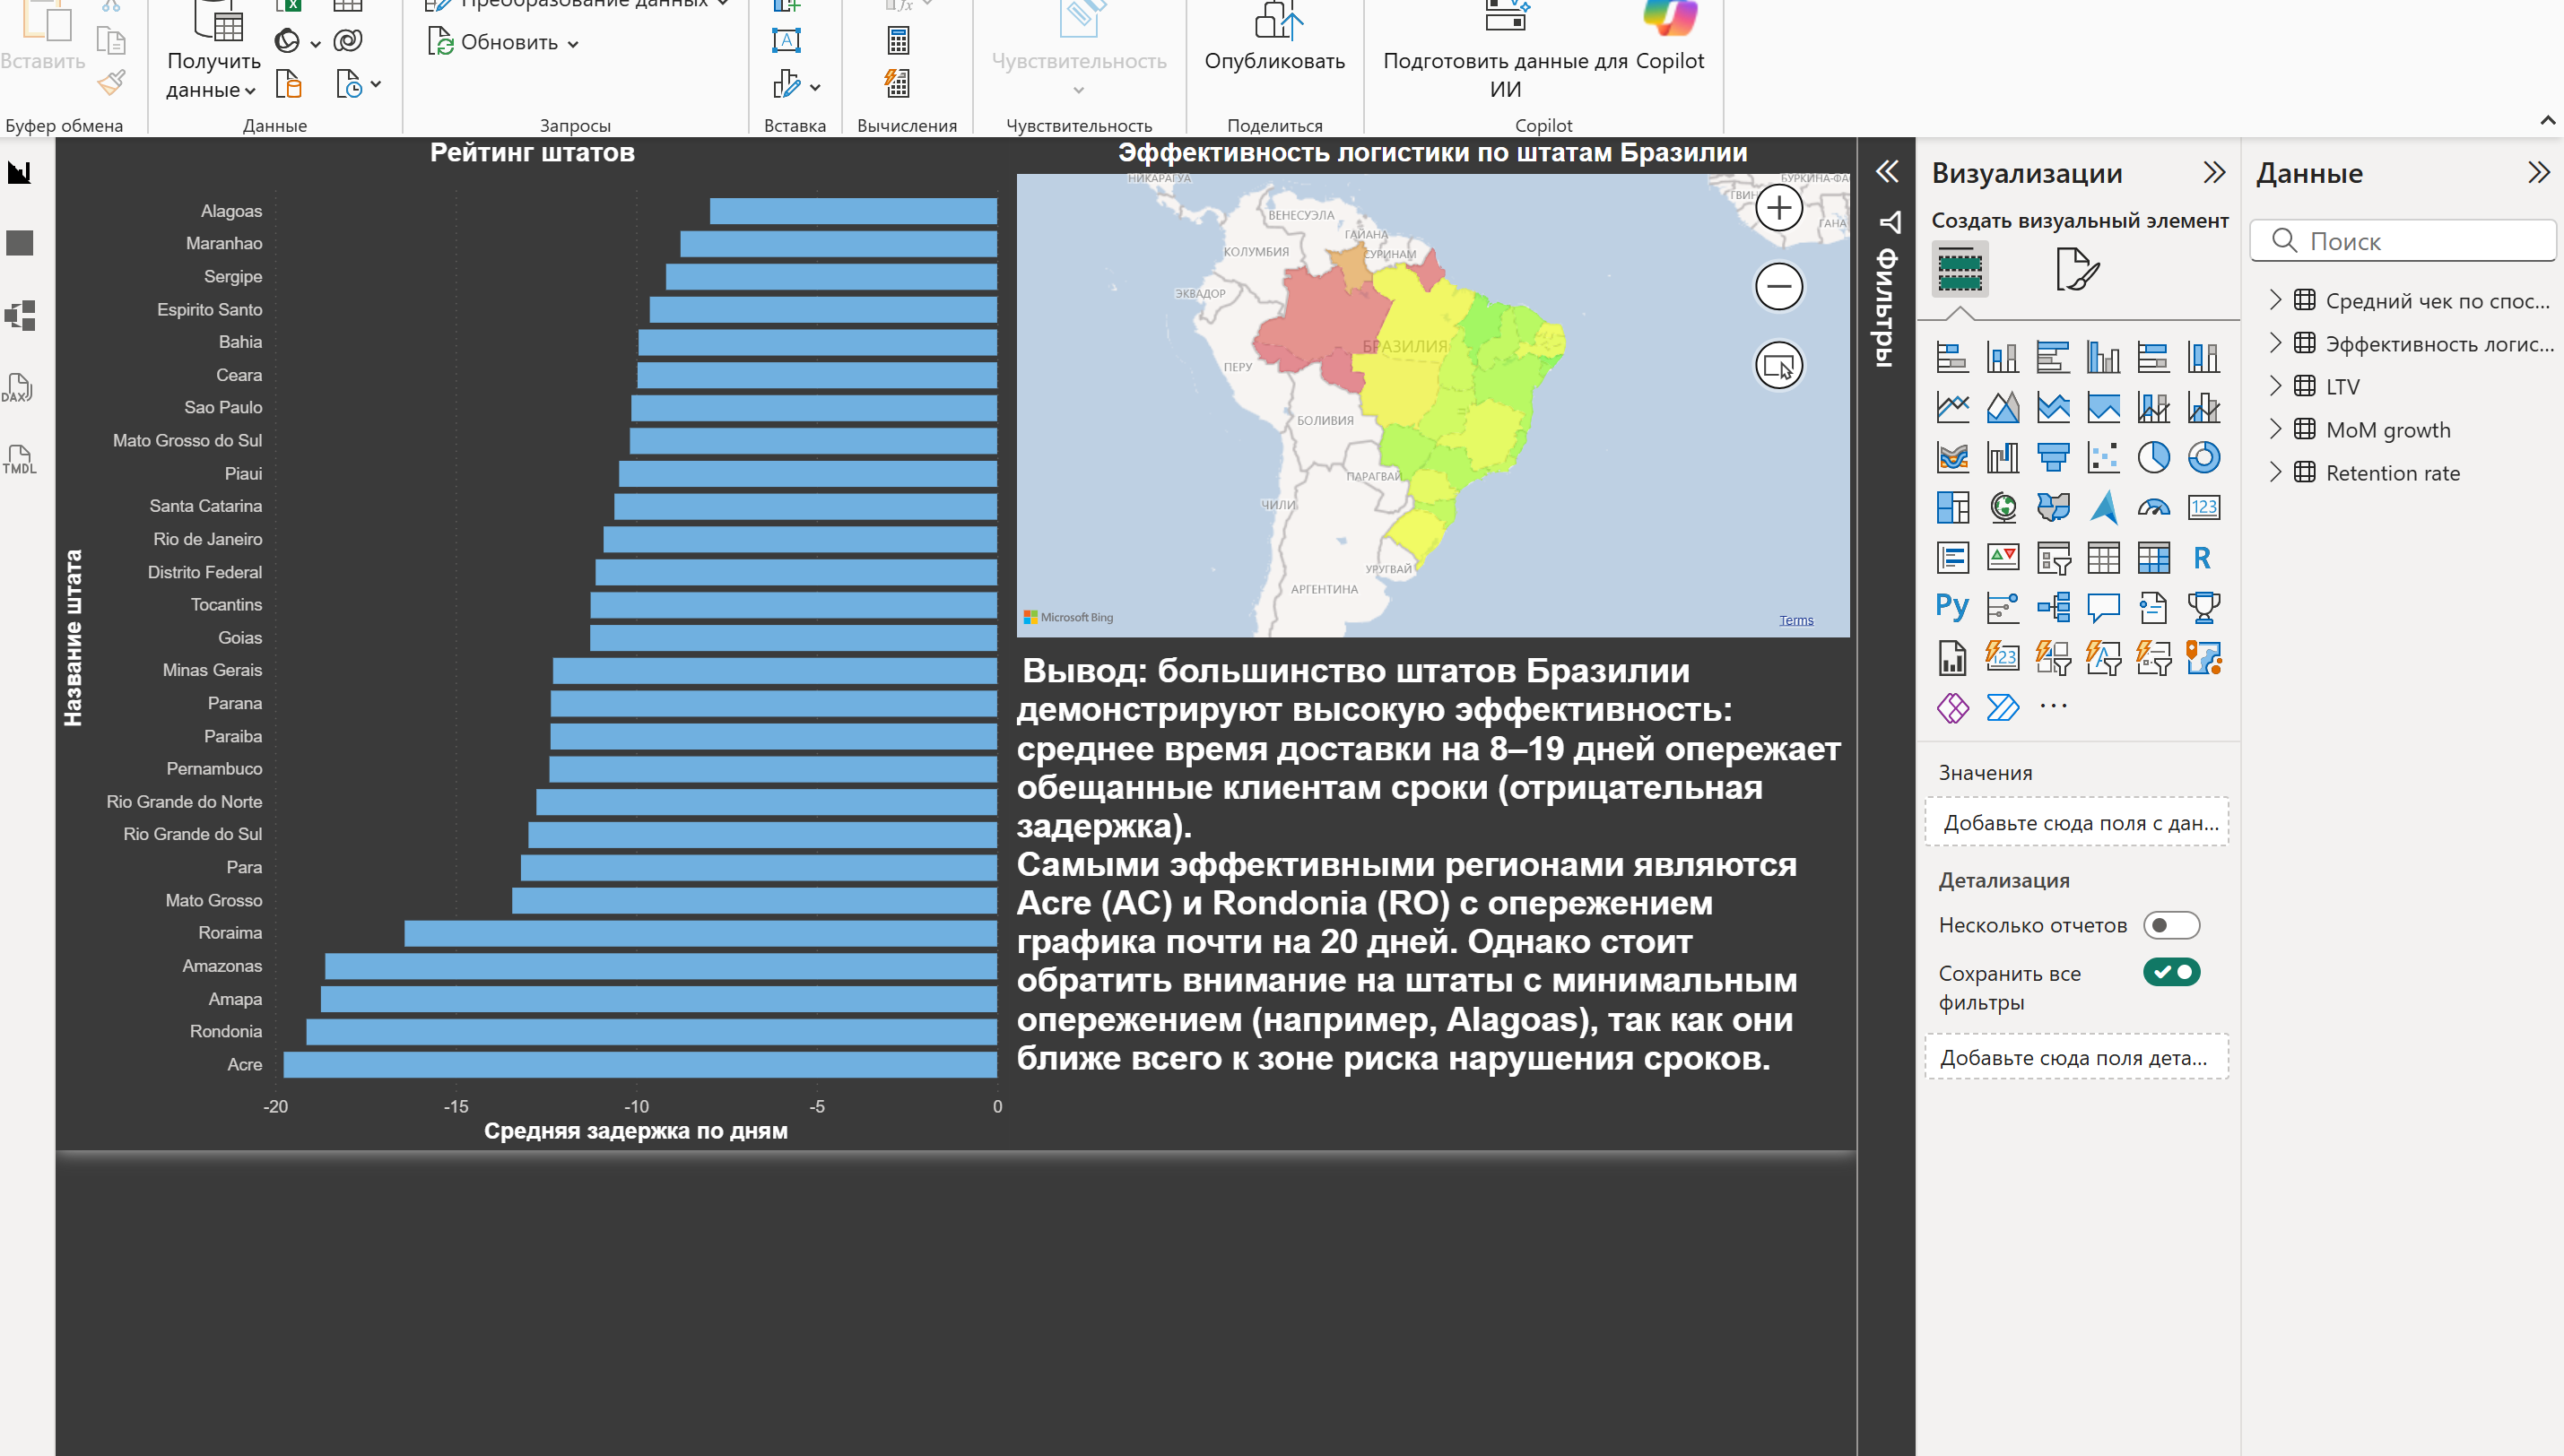

The page's visual inventory and layout, read from the dashboard file:
{"tool":"powerbi","page":{"name":"Логистика","canvas":[1280,720],"ordinal":1},"visuals":[{"type":"filledMap","title":"Эффективность логистики по штатам Бразилии","fields":{"Category":["Эффективность логистики.State_Full_Name"]},"box":[678.2,0,601.8,360.8],"z":0},{"type":"clusteredBarChart","title":"Рейтинг штатов","fields":{"Category":["Эффективность логистики.State_Full_Name"],"Y":["Sum(Эффективность логистики.avg_delay_days)"]},"box":[0,0,678.2,720.3],"z":1000},{"type":"textbox","box":[678,361,602,359],"z":2000}]}

Visuals, with their boxes on the page's 1280x720 design canvas (x1, y1, x2, y2). These are canvas units, not pixel positions in the 2564x1456 screenshot, which may show the page scaled, cropped or inside an application window:
"Эффективность логистики по штатам Бразилии" filledMap: box=[678, 0, 1280, 361]
"Рейтинг штатов" clusteredBarChart: box=[0, 0, 678, 720]
textbox: box=[678, 361, 1280, 720]
